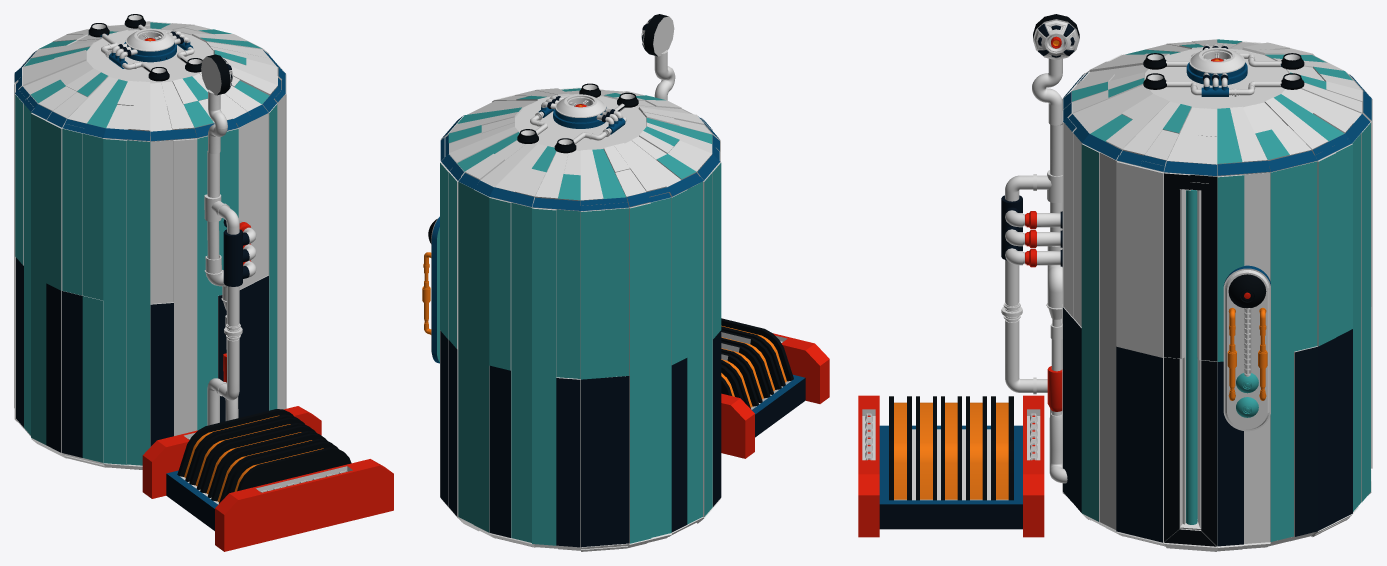
The model's file is Citerne.FBX.
3 renders of one model, left to right at view 1: azimuth 30°, elevation 25°; view 2: azimuth 150°, elevation 25°; view 3: azimuth 270°, elevation 25°, orthographic. The views are drawn at different scales.
Parts seen in each view (by area): view 1: Citerne, Générateur, Tuyau, Tuyaux Top; view 2: Citerne, Générateur, Tuyaux Top, Panneau, Tuyau; view 3: Citerne, Générateur, Tuyau, Panneau, Tuyaux Top, Niveau.
Boxes of the visible parts, x1,y1,x2,y2 form: Citerne: [14, 21, 286, 469]; Générateur: [142, 406, 393, 551]; Tuyau: [201, 54, 256, 425]; Tuyaux Top: [88, 14, 202, 81]; Citerne: [440, 87, 721, 551]; Générateur: [721, 318, 829, 458]; Tuyaux Top: [517, 83, 638, 153]; Panneau: [422, 216, 439, 363]; Tuyau: [641, 14, 675, 100]; Citerne: [1062, 39, 1372, 551]; Générateur: [858, 395, 1044, 537]; Tuyau: [1001, 14, 1079, 483]; Panneau: [1223, 265, 1270, 431]; Tuyaux Top: [1143, 44, 1304, 96]; Niveau: [1186, 190, 1197, 524].
Bounding box in the file's own units: 2.62 × 4.1 × 4.06.
